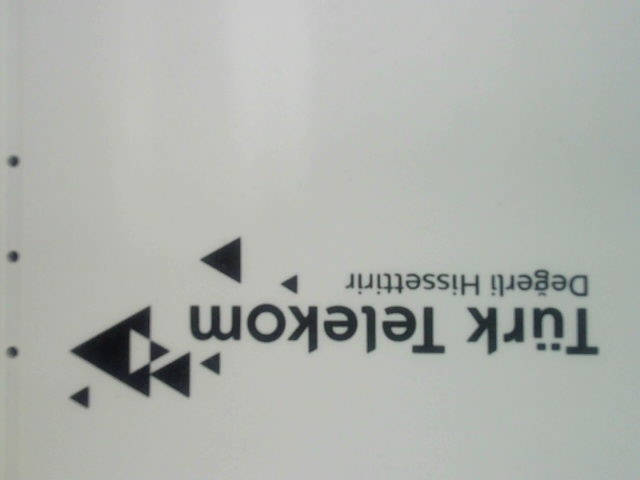AQ_TURKTelekom: (54, 232, 618, 423)
